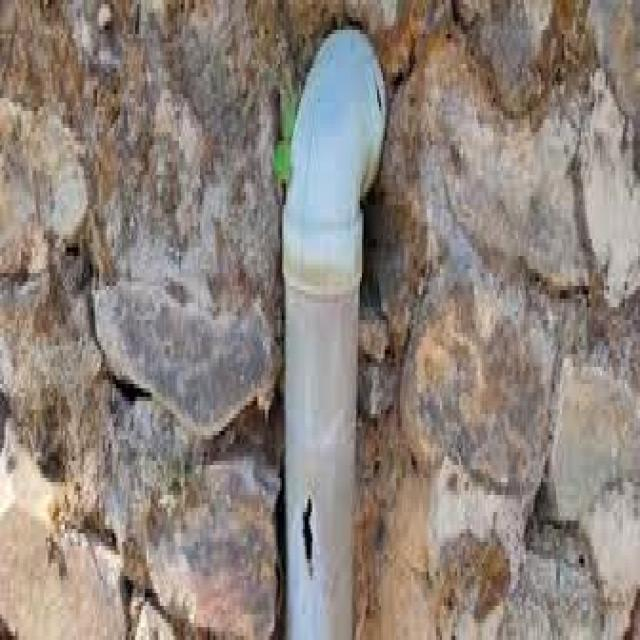crack: (304, 506, 316, 573)
